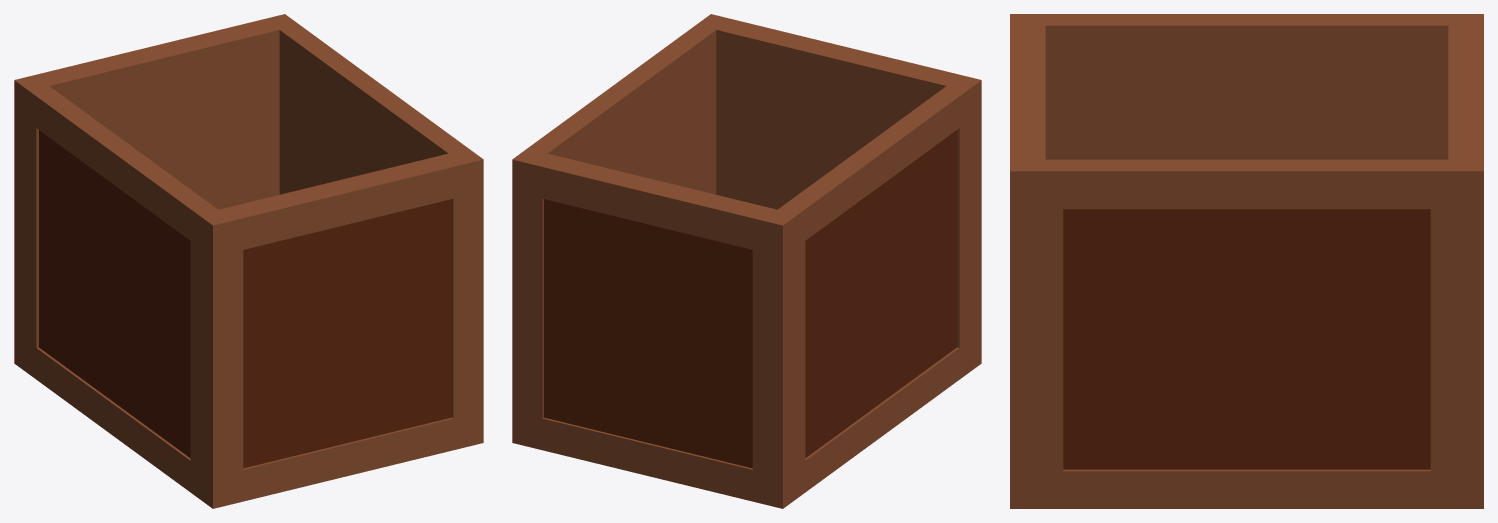
File: crate.fbx
The picture shows the model from 3 angles, left to right: view 1: azimuth 30°, elevation 25°; view 2: azimuth 150°, elevation 25°; view 3: azimuth 270°, elevation 25°; orthographic projection. The views are drawn at different scales.
Parts seen in each view (by area): view 1: Cube; view 2: Cube; view 3: Cube.
Part boxes in pixels (box(x1,y1,x2,y2)): Cube: box(14, 14, 483, 508); Cube: box(512, 14, 981, 508); Cube: box(1010, 14, 1483, 508).
Size of the model in its own units: 200 by 200 by 254.
